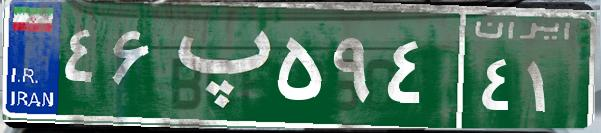1: (525, 38, 570, 115)
4: (385, 28, 445, 110), (57, 26, 110, 107), (475, 38, 525, 113)
5: (273, 28, 330, 110)
6: (110, 28, 158, 105)
9: (330, 28, 385, 110)
پ: (158, 15, 273, 115)
